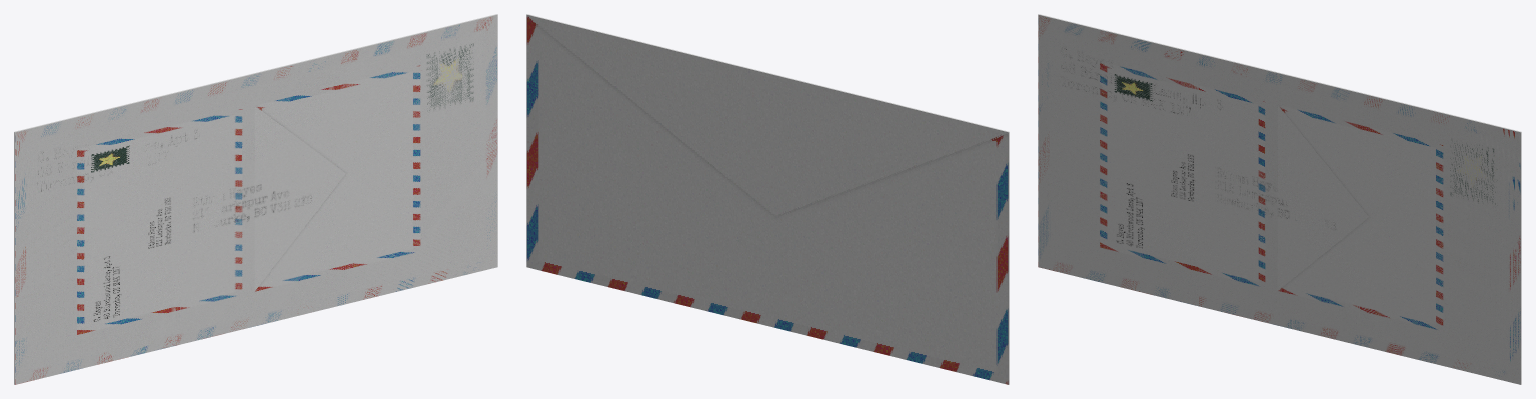
Rendered from ClairLetter.glb.
3 views of the same model, side by side, from view 1: azimuth 30°, elevation 25°; view 2: azimuth 150°, elevation 25°; view 3: azimuth 330°, elevation 25° (orthographic).
Visible parts, largest first — view 1: ClairLetter; view 2: ClairLetter; view 3: ClairLetter.
Part boxes in pixels (x1=…): ClairLetter: x1=14, y1=14, x2=497, y2=384; ClairLetter: x1=526, y1=14, x2=1009, y2=384; ClairLetter: x1=1038, y1=14, x2=1521, y2=384.
Bounding box in the file's own units: 0.34 × 0.17 × 0.001.
1 material, 1 textured.
